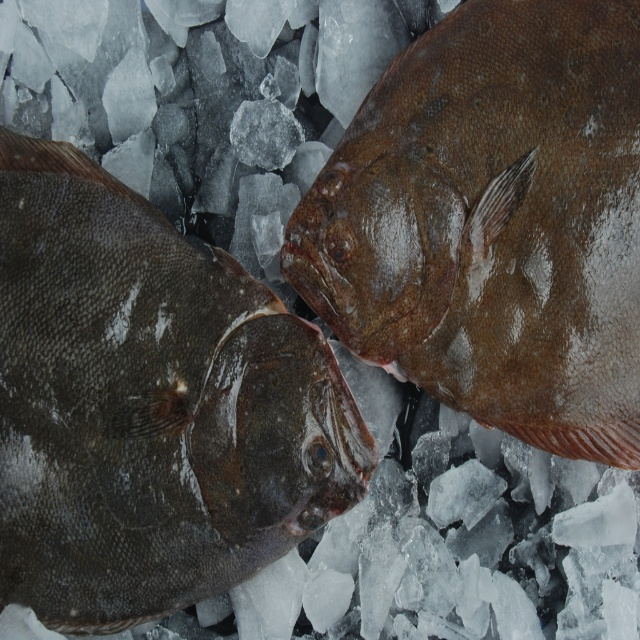Fish: (0, 119, 384, 638), (271, 54, 617, 523)
